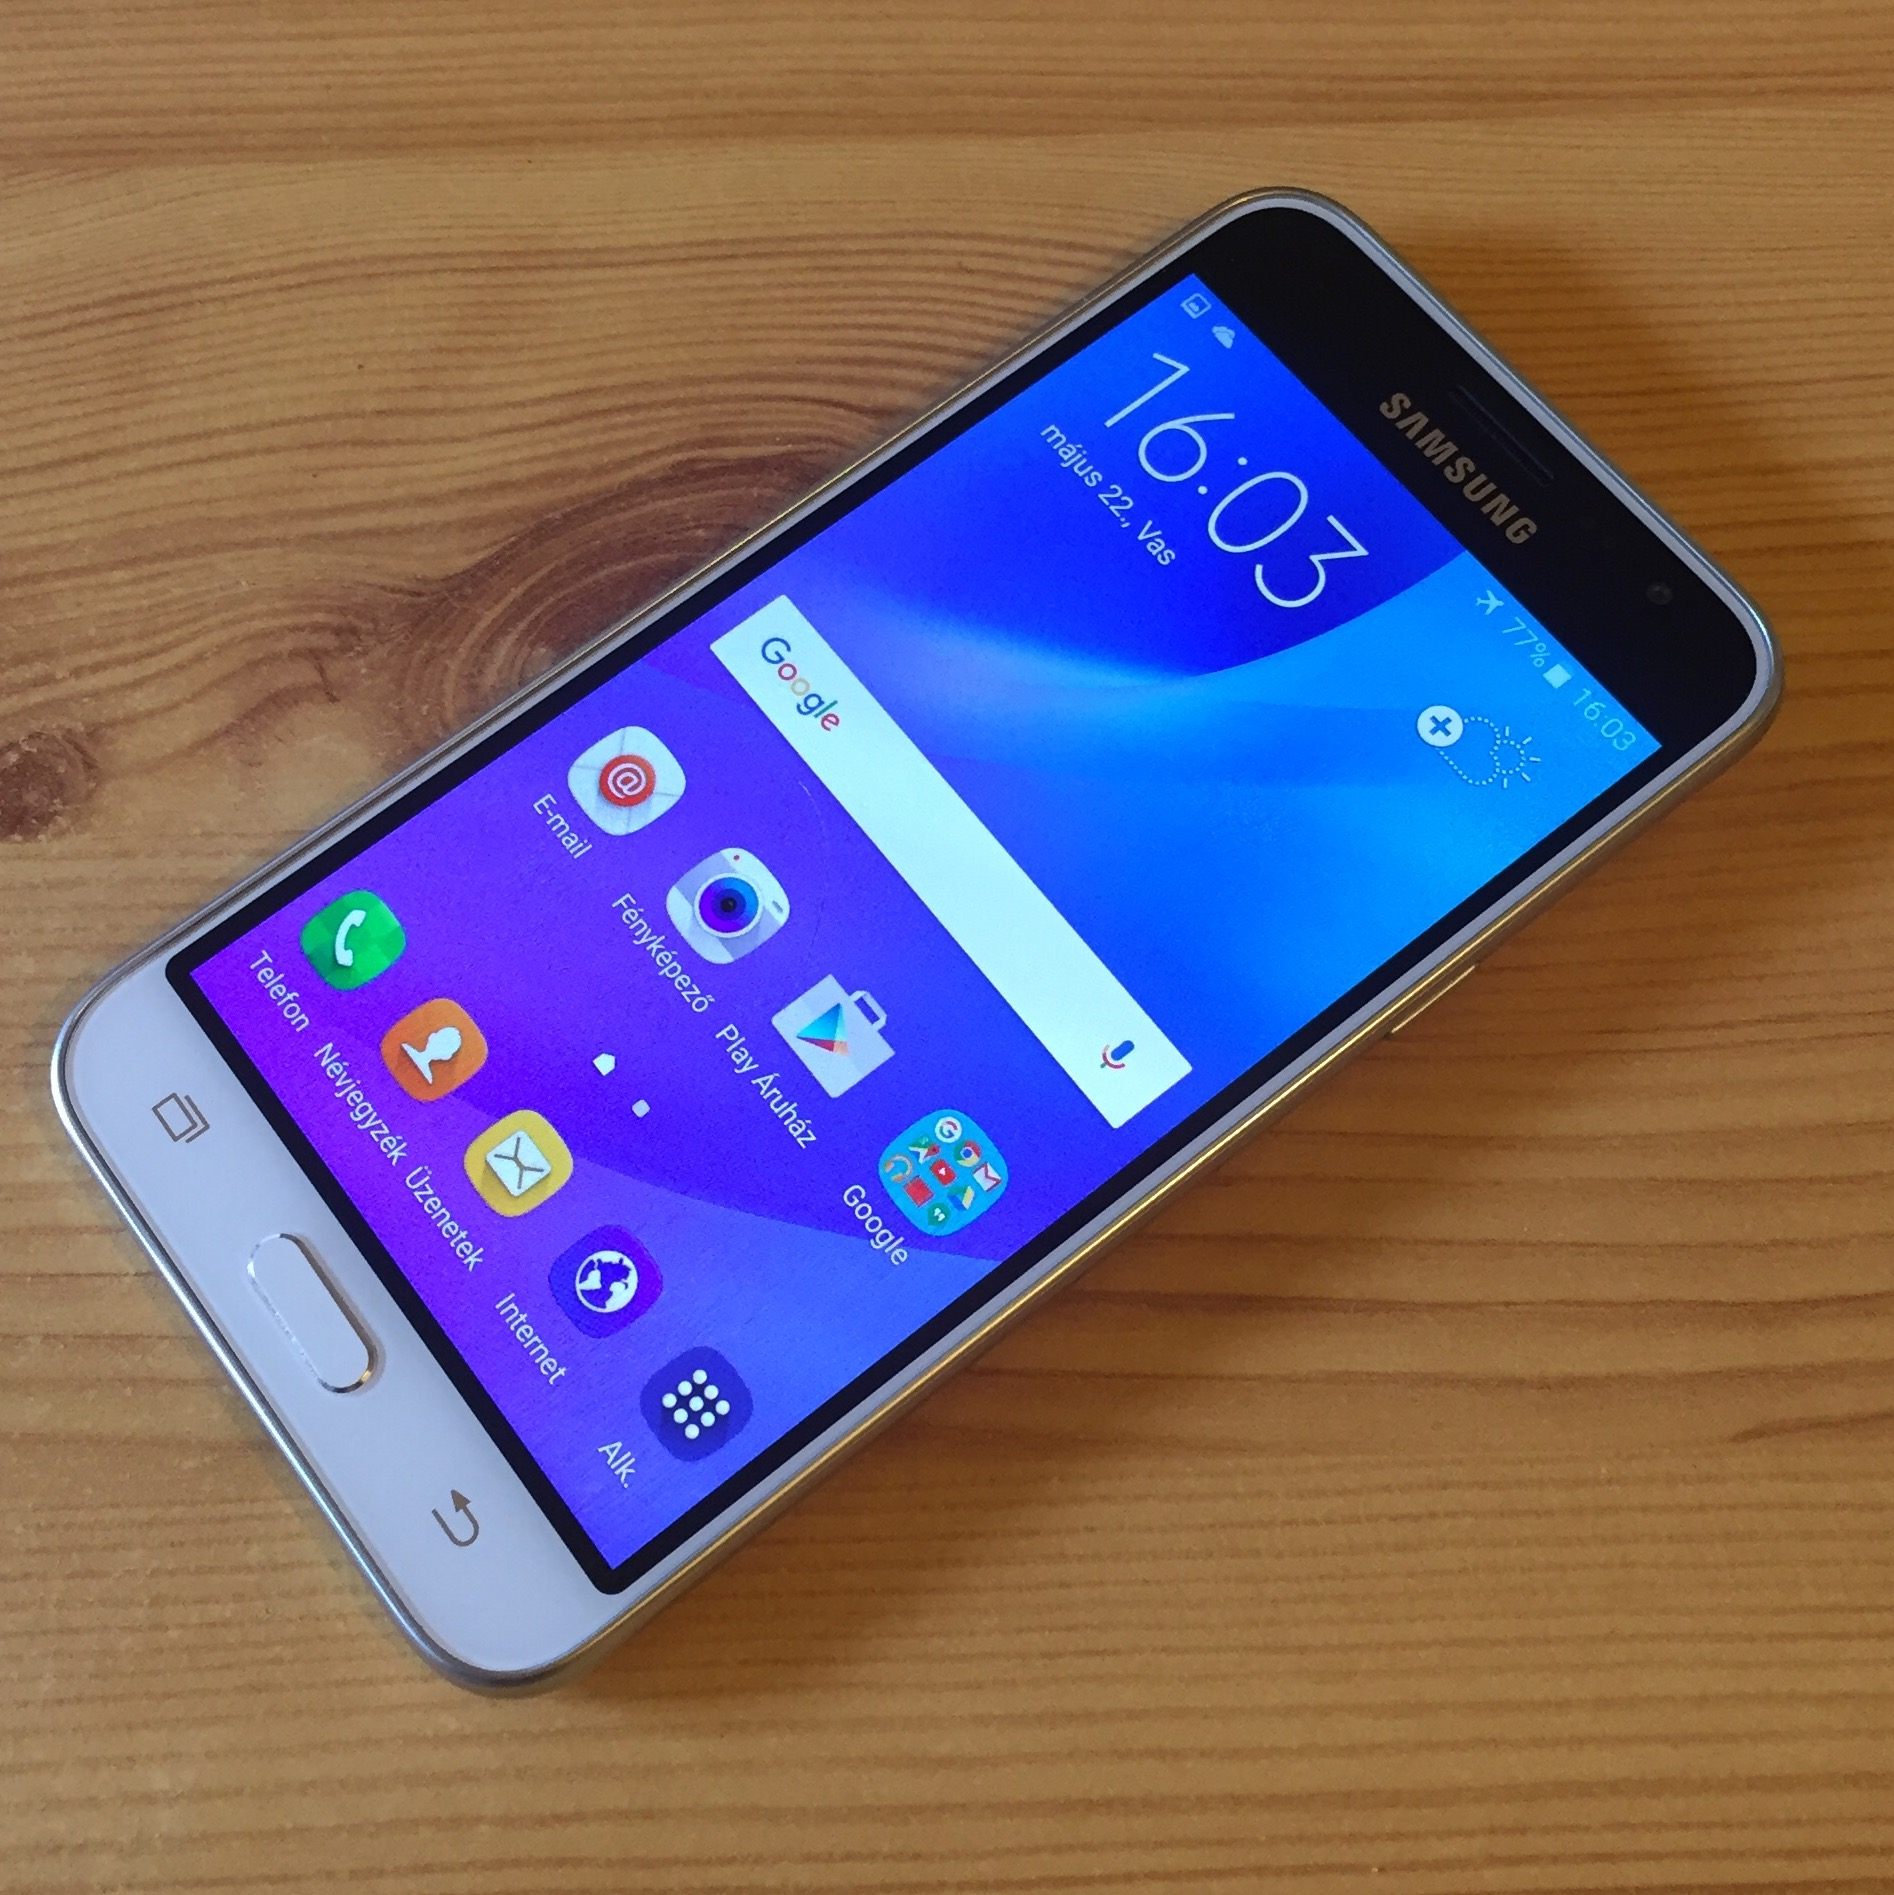smartphone: (49, 186, 1785, 1703)
